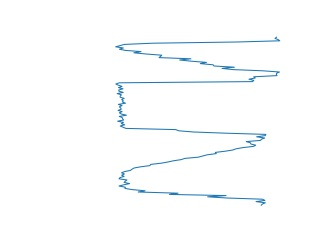distributaryChannelFill: (109, 73, 271, 140)
mouthBar: (112, 33, 283, 76)
underwaterDistributaryChannel: (113, 140, 267, 208)
